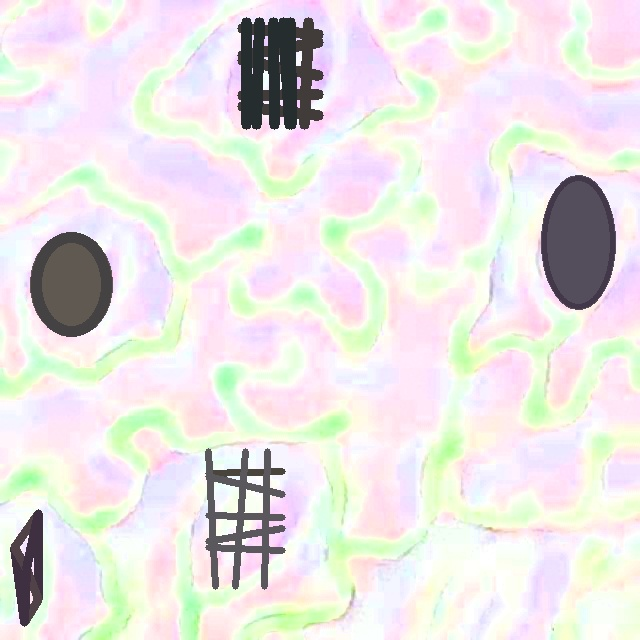open: (205, 448, 285, 589), (541, 175, 616, 309), (237, 17, 322, 128), (30, 232, 112, 335), (10, 509, 42, 626)
